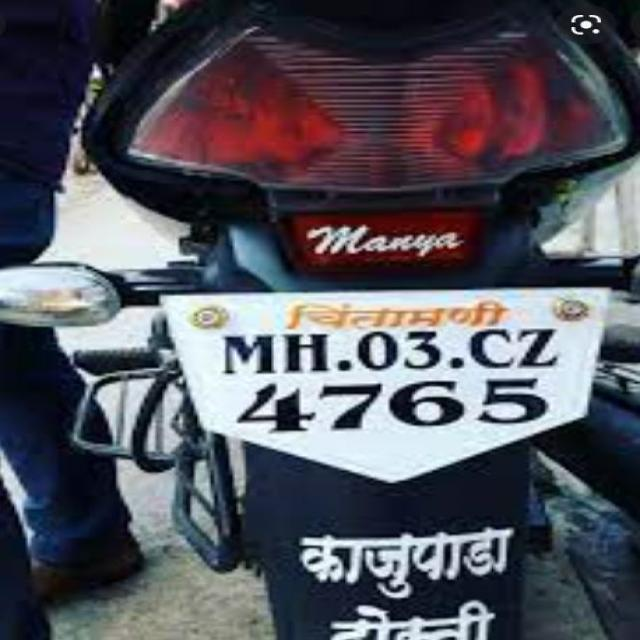number plate: (157, 284, 610, 481)
